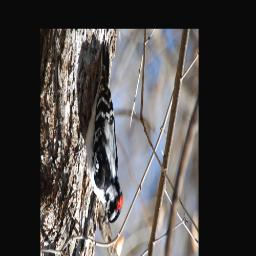Woodpecker: (84, 41, 125, 229)
